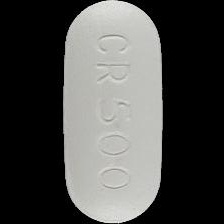68788-9330: (0, 0, 224, 224)
